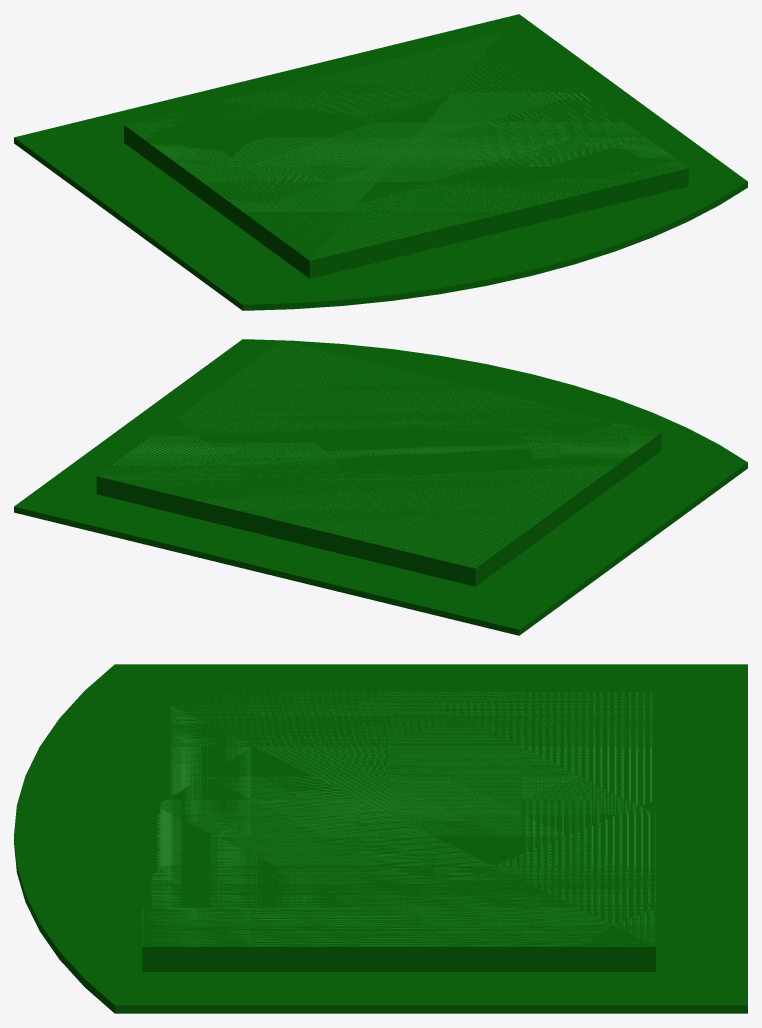
The picture shows the model from 3 angles, top to bottom: view 1: azimuth 30°, elevation 25°; view 2: azimuth 150°, elevation 25°; view 3: azimuth 270°, elevation 25°; orthographic projection. The views are drawn at different scales.
Size of the model in its own units: 1.04 by 0.0471 by 0.9423.
